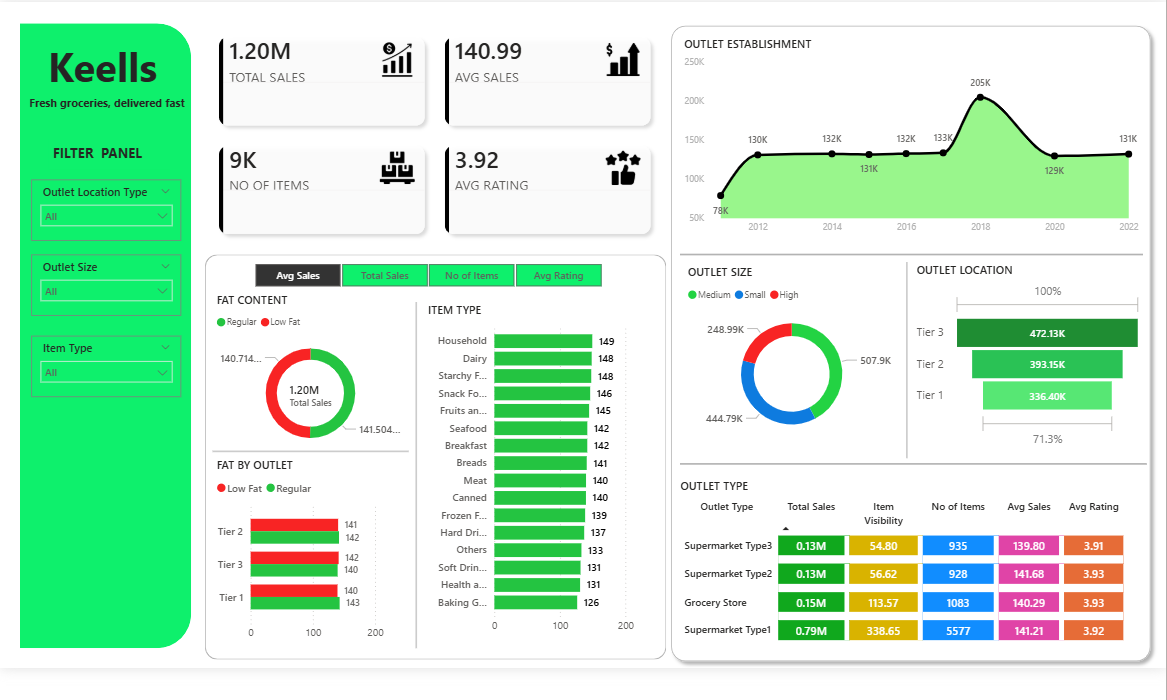

This screenshot's page, from the dashboard's own definition file:
{"tool":"powerbi","page":{"name":"Page 1","canvas":[1400,800],"ordinal":0},"visuals":[{"type":"shape","box":[25.5,25.5,204.1,750.4],"z":0},{"type":"shape","box":[24,25.5,205.6,750.4],"z":1000},{"type":"textbox","box":[52.5,39,165.1,88.6],"z":2000},{"type":"textbox","box":[30,106.6,204.1,42],"z":3000},{"type":"cardVisual","fields":{"Data":["BlinkIT Grocery Data.Total Sales","BlinkIT Grocery Data.Avg Sales","BlinkIT Grocery Data.No of Items","BlinkIT Grocery Data.Avg Rating"]},"box":[234.1,13.5,577.8,294.2],"z":4000},{"type":"shape","box":[246.1,303.2,553.8,486.3],"z":5000},{"type":"donutChart","title":"FAT CONTENT","fields":{"Y":["BlinkIT Grocery Data.Avg Sales"],"Category":["BlinkIT Grocery Data.Item Fat Content"]},"box":[255.1,348.2,235.6,198.1],"z":6000},{"type":"slicer","fields":{"Values":["Metrics.Metrics"]},"box":[280.7,307.7,465.3,40.5],"z":7000},{"type":"clusteredBarChart","title":"FAT BY OUTLET","fields":{"Y":["BlinkIT Grocery Data.Avg Sales"],"Category":["BlinkIT Grocery Data.Outlet Location Type"],"Series":["BlinkIT Grocery Data.Item Fat Content"]},"box":[255.1,546.3,235.6,229.6],"z":8000},{"type":"shape","box":[255.1,532.8,235.6,13.5],"z":9000},{"type":"shape","box":[490.8,360.2,18,415.7],"z":10000},{"type":"barChart","title":"ITEM TYPE","fields":{"Y":["BlinkIT Grocery Data.Avg Sales"],"Category":["BlinkIT Grocery Data.Item Type"]},"box":[508.8,360.2,288.2,406.7],"z":11000},{"type":"shape","box":[796.3,19.5,593.5,781.3],"z":12000},{"type":"lineChart","title":"OUTLET ESTABLISHMENT","fields":{"Category":["BlinkIT Grocery Data.Outlet Establishment Year"],"Y":["BlinkIT Grocery Data.Total Sales"]},"box":[815.8,40.6,555.9,246.4],"z":13000},{"type":"shape","box":[815.8,287,555.9,33.1],"z":14000},{"type":"donutChart","title":"OUTLET SIZE","fields":{"Y":["BlinkIT Grocery Data.Total Sales"],"Category":["BlinkIT Grocery Data.Outlet Size"]},"box":[821,315.2,259.6,217.6],"z":15000},{"type":"shape","box":[1082.1,312.2,13.5,235.6],"z":16000},{"type":"funnel","title":"OUTLET LOCATION","fields":{"Y":["Sum(BlinkIT Grocery Data.Sales)"],"Category":["BlinkIT Grocery Data.Outlet Location Type"]},"box":[1095.6,312.2,280.7,228.1],"z":17000},{"type":"shape","box":[815.8,537.9,560.4,34.6],"z":18000},{"type":"pivotTable","title":"OUTLET TYPE","fields":{"Rows":["BlinkIT Grocery Data.Outlet Type"],"Values":["BlinkIT Grocery Data.Total Sales","Sum(BlinkIT Grocery Data.Item Visibility)","BlinkIT Grocery Data.No of Items","BlinkIT Grocery Data.Avg Sales","BlinkIT Grocery Data.Avg Rating"]},"box":[811.3,572.4,558.9,226.9],"z":19000},{"type":"slicer","fields":{"Values":["BlinkIT Grocery Data.Outlet Location Type"]},"box":[37.5,213.1,180.1,73.5],"z":20000},{"type":"slicer","fields":{"Values":["BlinkIT Grocery Data.Outlet Size"]},"box":[37.5,303.2,180.1,73.5],"z":21000},{"type":"slicer","fields":{"Values":["BlinkIT Grocery Data.Item Type"]},"box":[37.5,400.7,180.1,73.5],"z":22000},{"type":"textbox","box":[58.5,165.1,145.6,36],"z":23000},{"type":"cardVisual","fields":{"Data":["BlinkIT Grocery Data.Total Sales"]},"box":[319.7,430.7,112,82],"z":23001}]}

Visuals, with their boxes on the page's 1400x800 design canvas (x1, y1, x2, y2). These are canvas units, not pixel positions in the 1167x700 screenshot, which may show the page scaled, cropped or inside an application window:
shape: 26, 26, 230, 776
shape: 24, 26, 230, 776
textbox: 52, 39, 218, 128
textbox: 30, 107, 234, 149
cardVisual - BlinkIT Grocery Data.Total Sales x BlinkIT Grocery Data.Avg Sales: 234, 14, 812, 308
shape: 246, 303, 800, 790
"FAT CONTENT" donutChart: 255, 348, 491, 546
slicer - Metrics.Metrics: 281, 308, 746, 348
"FAT BY OUTLET" clusteredBarChart: 255, 546, 491, 776
shape: 255, 533, 491, 546
shape: 491, 360, 509, 776
"ITEM TYPE" barChart: 509, 360, 797, 767
shape: 796, 20, 1390, 801
"OUTLET ESTABLISHMENT" lineChart: 816, 41, 1372, 287
shape: 816, 287, 1372, 320
"OUTLET SIZE" donutChart: 821, 315, 1081, 533
shape: 1082, 312, 1096, 548
"OUTLET LOCATION" funnel: 1096, 312, 1376, 540
shape: 816, 538, 1376, 572
"OUTLET TYPE" pivotTable: 811, 572, 1370, 799
slicer - BlinkIT Grocery Data.Outlet Location Type: 38, 213, 218, 287
slicer - BlinkIT Grocery Data.Outlet Size: 38, 303, 218, 377
slicer - BlinkIT Grocery Data.Item Type: 38, 401, 218, 474
textbox: 58, 165, 204, 201
cardVisual - BlinkIT Grocery Data.Total Sales: 320, 431, 432, 513
